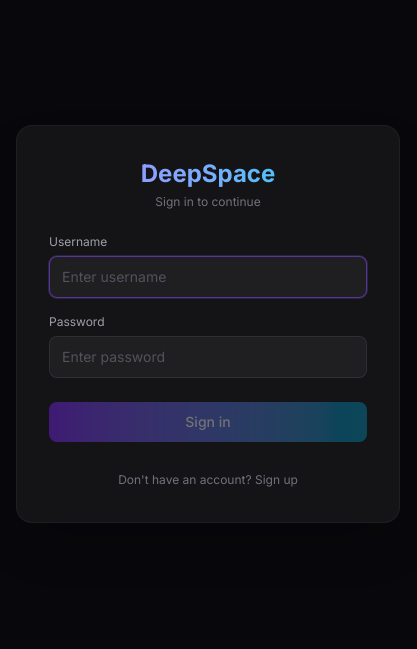
Test: LoginScreen › should show error when passwords do not match
Click the button "Don't have an account? Sign up" at (208, 480), box [118, 472, 298, 488]
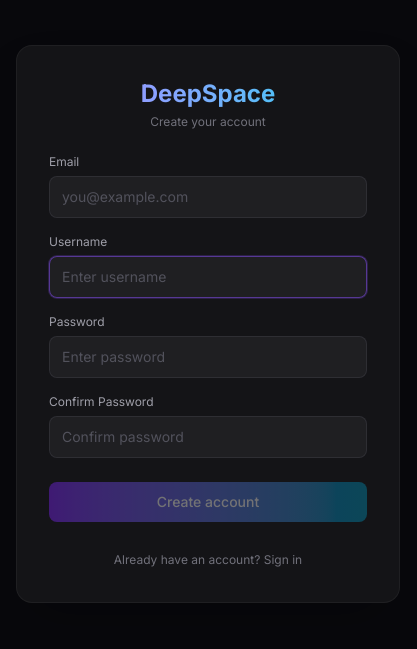
Type "test@test.com" into the field with placeholder "you@example.com" at (208, 197), box [49, 176, 367, 218]
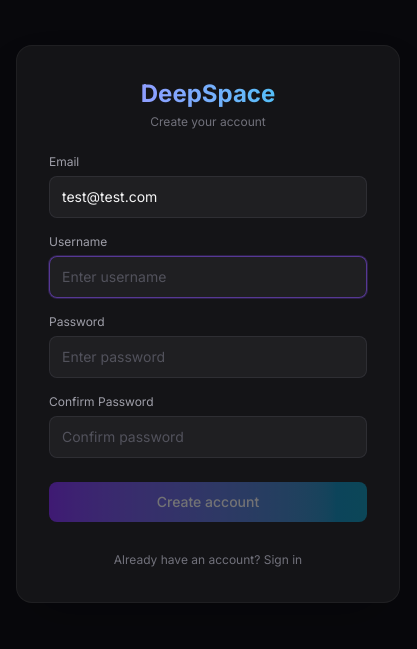
Type "newuser" into the field with placeholder "Enter username" at (208, 277), box [49, 256, 367, 298]
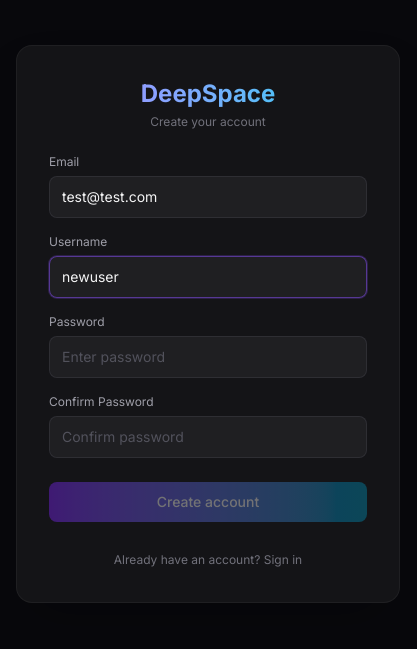
Type "password123" into the password field with placeholder "Enter password" at (208, 357), box [49, 336, 367, 378]
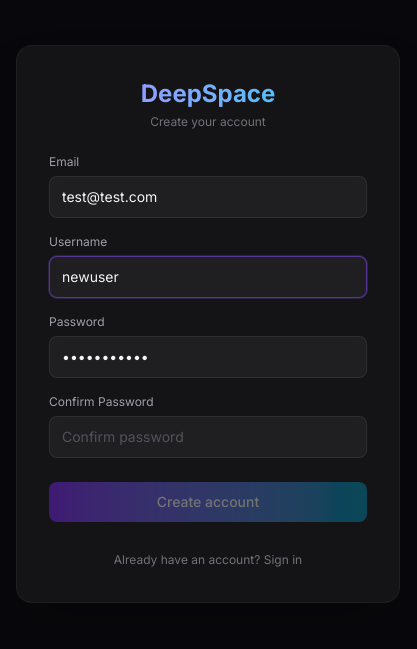
Type "different" into the password field with placeholder "Confirm password" at (208, 437), box [49, 416, 367, 458]
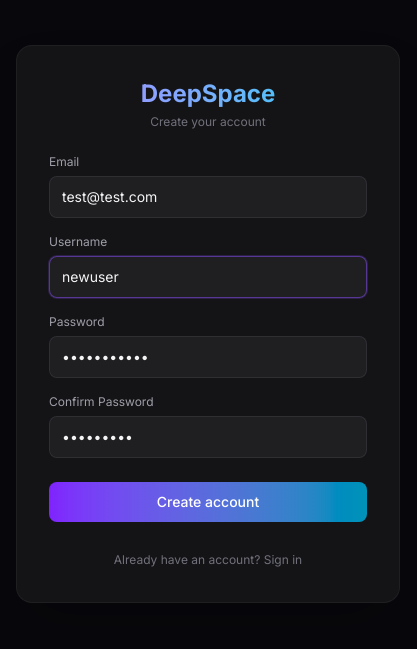
Click the button "Create account" at (208, 502), box [49, 482, 367, 522]
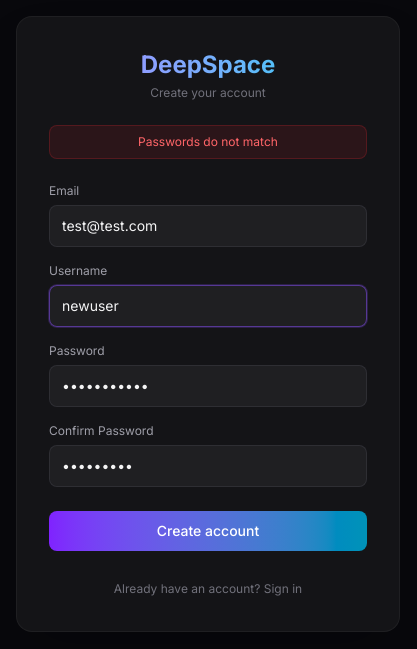
Now the text "Passwords do not match" is shown, box [49, 125, 367, 159]
